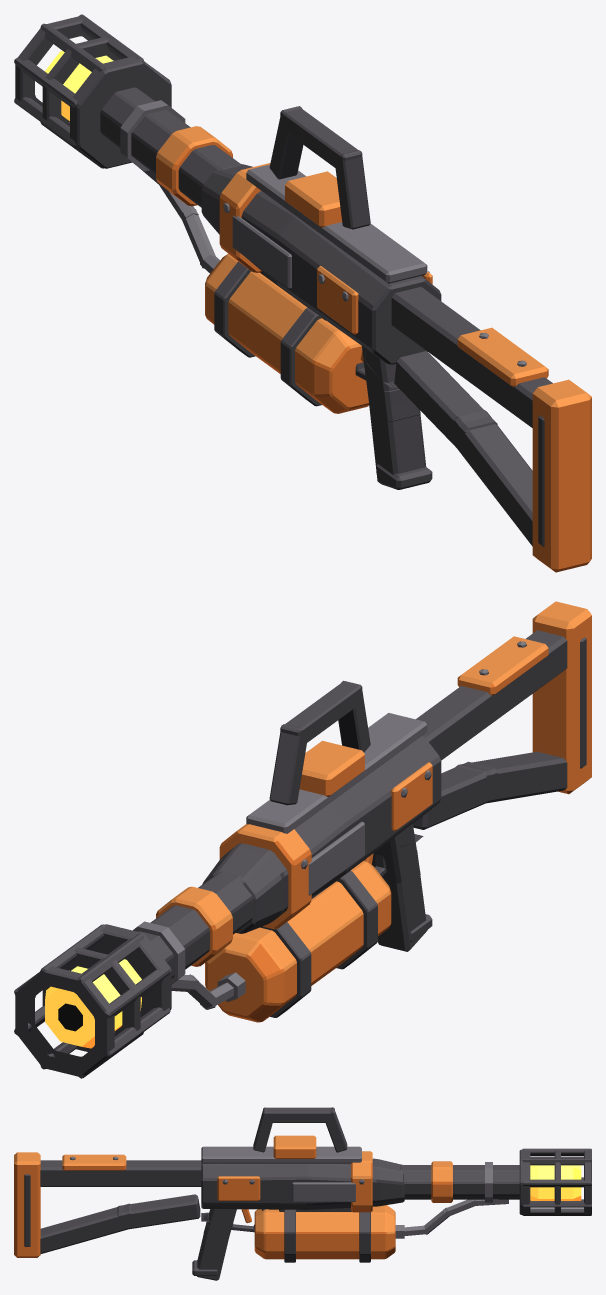
Rendered from flamethrower.glb.
3 renders of one model, top to bottom at view 1: azimuth 30°, elevation 25°; view 2: azimuth 150°, elevation 25°; view 3: azimuth 270°, elevation 25°, orthographic. The views are drawn at different scales.
Visible parts, largest first — view 1: Flamethrower; view 2: Flamethrower; view 3: Flamethrower.
Boxes of the visible parts, x1,y1,x2,y2 form: Flamethrower: (14, 14, 591, 572); Flamethrower: (14, 601, 591, 1078); Flamethrower: (14, 1107, 591, 1280).
Size of the model in its own units: 0.1176 by 0.3459 by 1.08.
